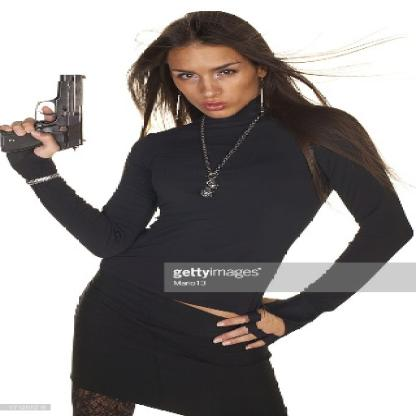handgun: (0, 71, 92, 151)
